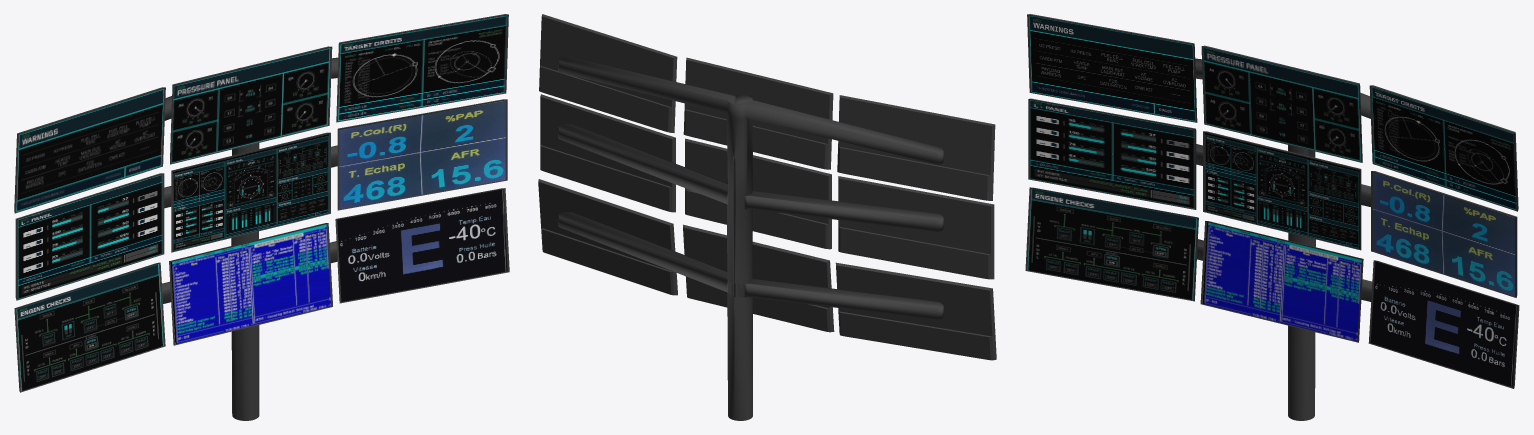
The model's file is screen3.obj.
The picture shows the model from 3 angles, left to right: view 1: azimuth 30°, elevation 25°; view 2: azimuth 150°, elevation 25°; view 3: azimuth 330°, elevation 25°; orthographic projection. The views are drawn at different scales.
Visible parts, largest first — view 1: screen_Plane.004; view 2: screen_Plane.004; view 3: screen_Plane.004.
Boxes of the visible parts, x1,y1,x2,y2 form: screen_Plane.004: (14, 14, 509, 420); screen_Plane.004: (538, 14, 996, 420); screen_Plane.004: (1025, 14, 1519, 420).
Size of the model in its own units: 5.21 by 3.65 by 0.6054.
1 material, 1 textured.
